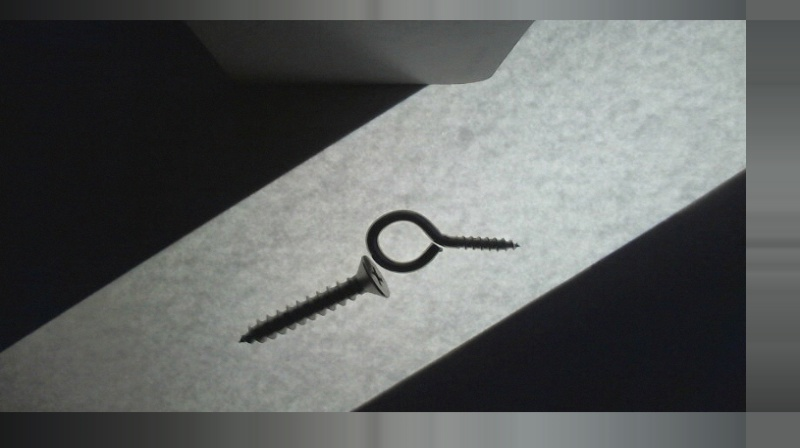O001: (364, 208, 523, 274)
S001: (234, 254, 391, 345)
